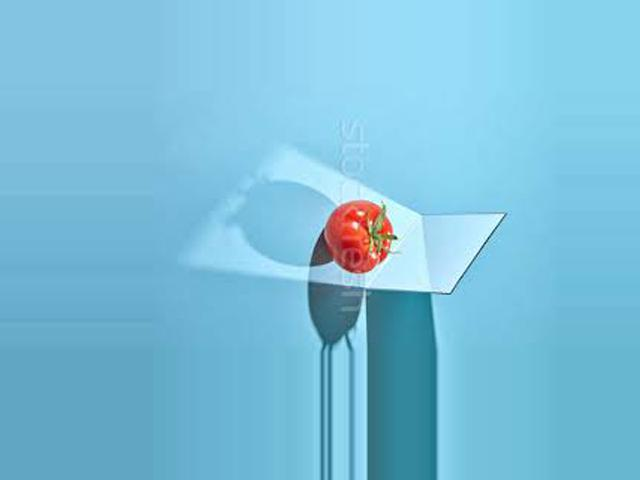tomato: (323, 200, 392, 274)
